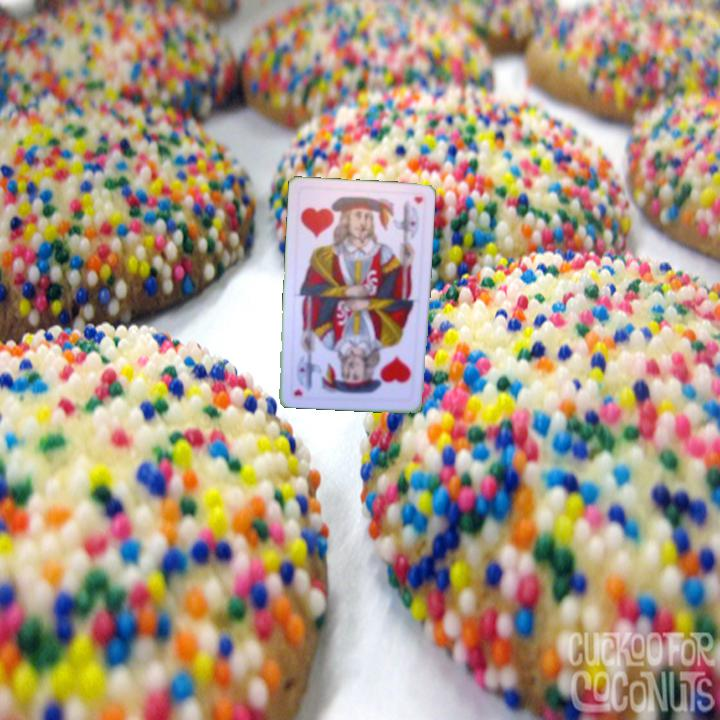h_j.png: (348, 343, 418, 404), (295, 186, 365, 247)
